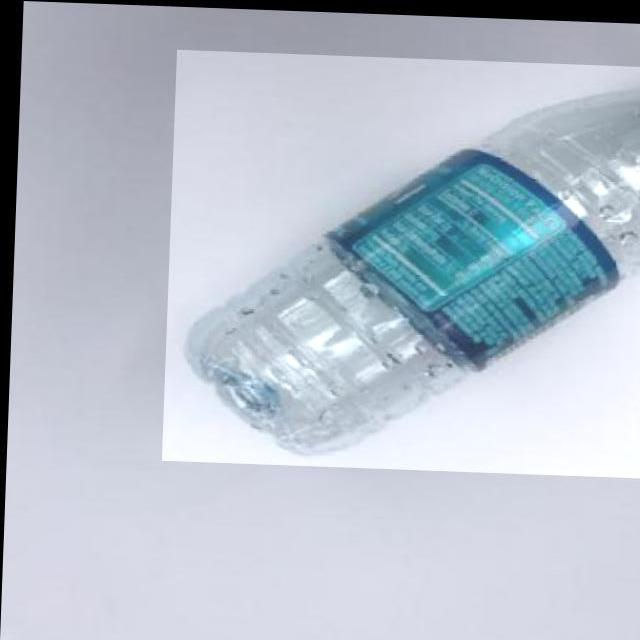寶特瓶: (161, 48, 640, 473)
